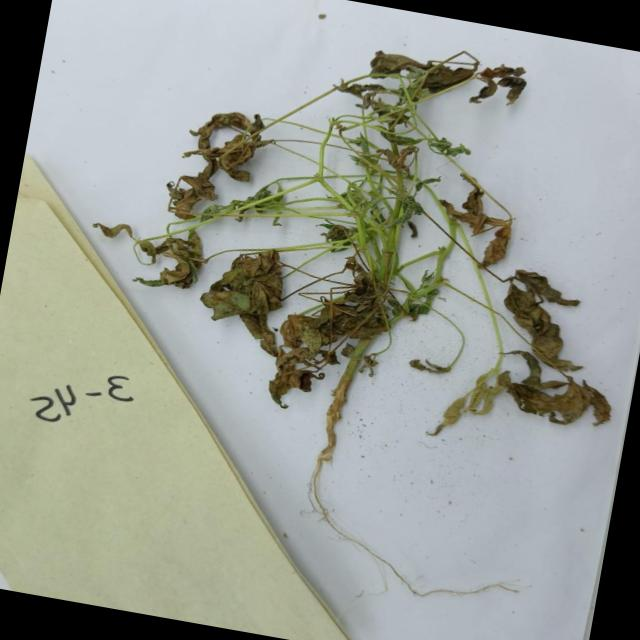Root: (226, 432, 564, 630)
Stem: (312, 172, 418, 424)
rooten_leaf: (403, 200, 640, 481), (81, 70, 302, 336), (289, 15, 576, 160), (152, 260, 330, 420)
